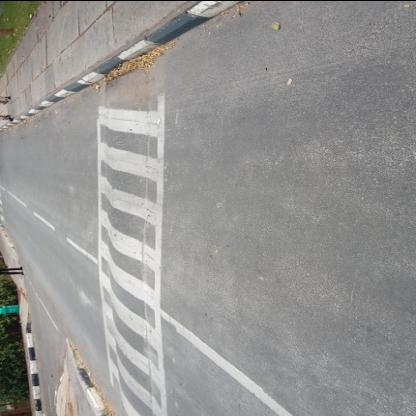speed-bumps: (86, 75, 178, 416)
